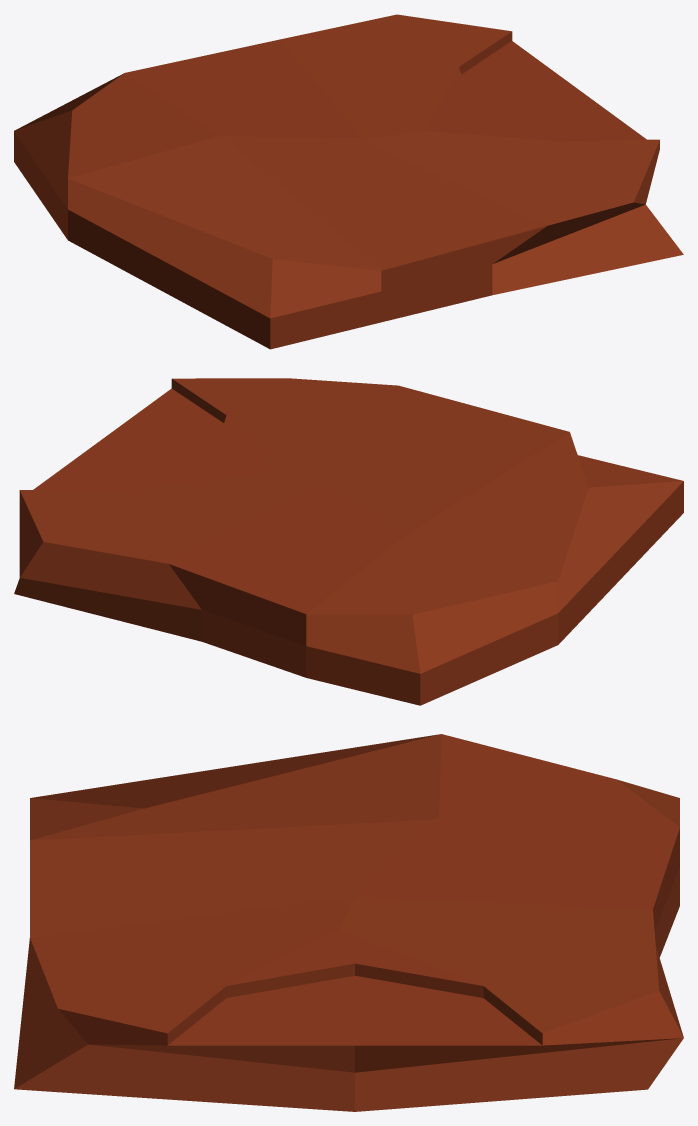
Rendered from SM_Clothes_01.fbx.
3 renders of one model, top to bottom at view 1: azimuth 30°, elevation 25°; view 2: azimuth 150°, elevation 25°; view 3: azimuth 270°, elevation 25°, orthographic. The views are drawn at different scales.
Visible parts, largest first — view 1: SM_Clothes_01; view 2: SM_Clothes_01; view 3: SM_Clothes_01.
Part boxes in pixels (bbox=[...]): SM_Clothes_01: bbox=[14, 14, 683, 349]; SM_Clothes_01: bbox=[14, 378, 683, 705]; SM_Clothes_01: bbox=[14, 734, 683, 1111].
Bounding box in the file's own units: 327 × 44.13 × 309.
